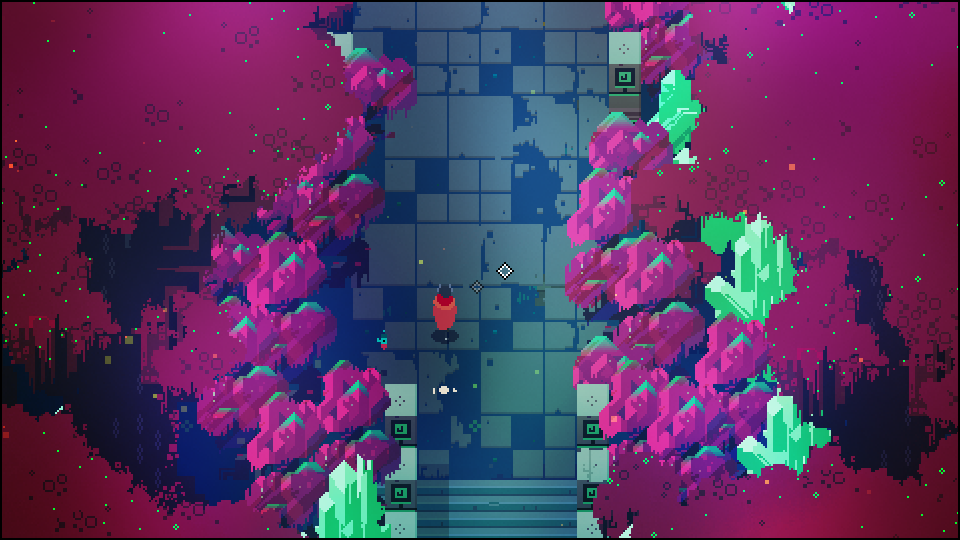player: (430, 283, 455, 336)
